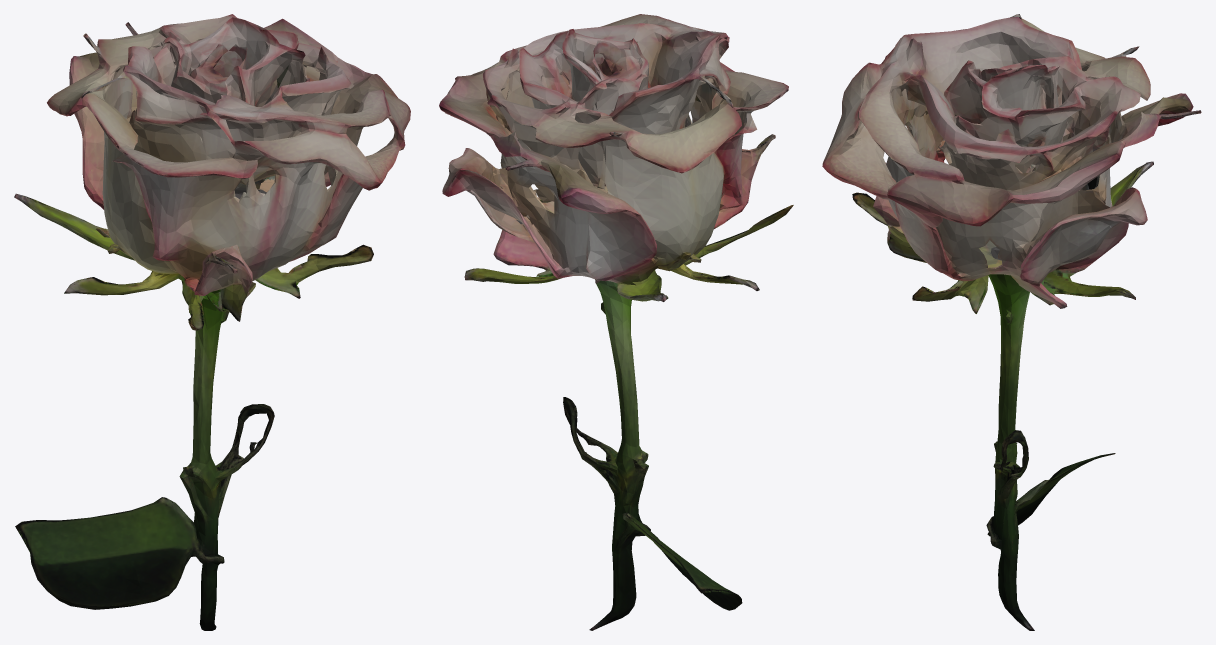
3 renders of one model, left to right at view 1: azimuth 30°, elevation 25°; view 2: azimuth 150°, elevation 25°; view 3: azimuth 270°, elevation 25°, orthographic. The views are drawn at different scales.
Parts seen in each view (by area): view 1: world; view 2: world; view 3: world.
Boxes of the visible parts, x1,y1,x2,y2 form: world: (14, 14, 410, 630); world: (439, 14, 793, 630); world: (822, 14, 1201, 630).
Bounding box in the file's own units: 0.551 × 0.961 × 0.5697.
1 material, 1 textured.
